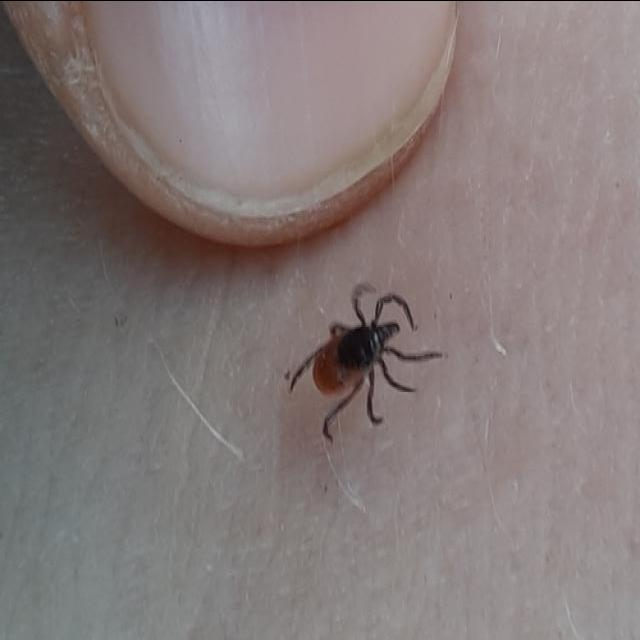Ixodes Ricinus-F: (285, 282, 440, 442)
